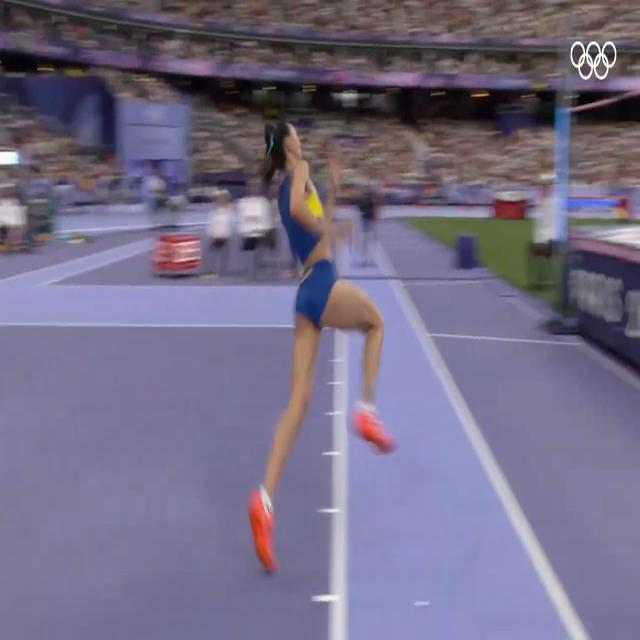run: (248, 126, 398, 580)
